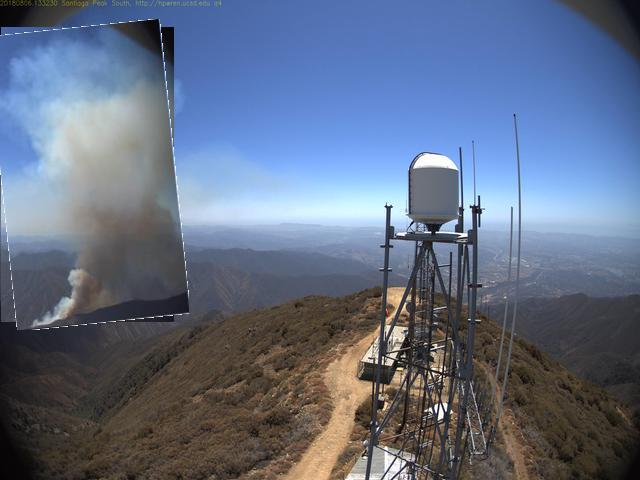smoke: (1, 24, 184, 329)
